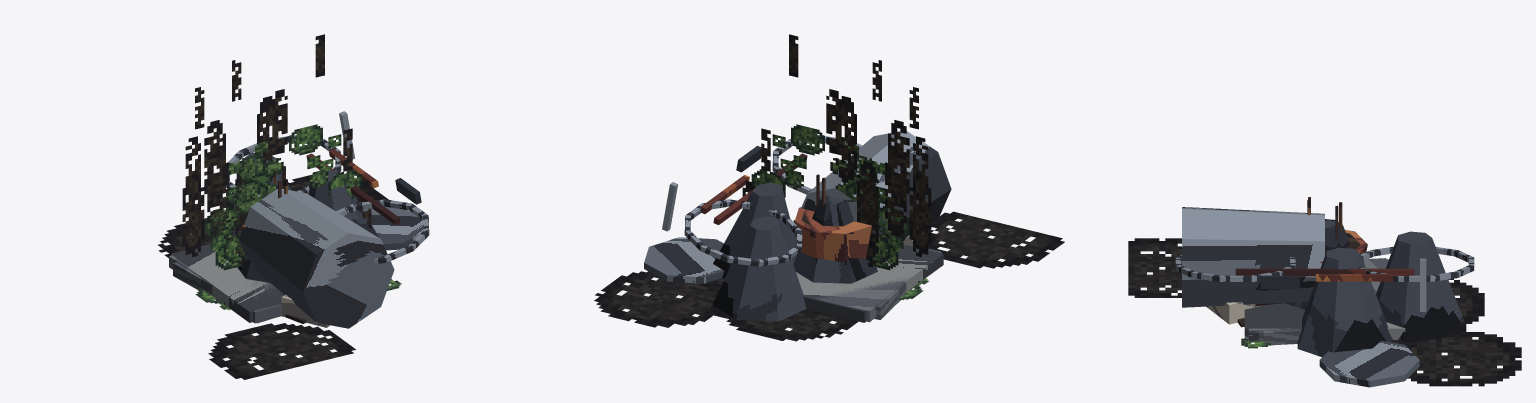
The model's file is VEIL_HouseKit.glb.
3 renders of one model, left to right at view 1: azimuth 30°, elevation 25°; view 2: azimuth 150°, elevation 25°; view 3: azimuth 270°, elevation 25°, orthographic.
Parts seen in each view (by area): view 1: TrashCan_Tipped, Grime_Streaks, Stain_Flat, Moss_Wall, Bike_Fallen, Slab_A, TrashBags, Slab_B, Slab_C; view 2: Stain_Flat, TrashBags, Grime_Streaks, TrashCan_Tipped, Moss_Wall, Bike_Fallen, Slab_A, Pot_Dead, Slab_B, Slab_C; view 3: TrashCan_Tipped, TrashBags, Stain_Flat, Bike_Fallen, Slab_A, Pot_Dead, Slab_B, Slab_C.
Boxes of the visible parts, x1=… form: TrashCan_Tipped: x1=239, y1=188, x2=423, y2=328; Grime_Streaks: x1=182, y1=34, x2=371, y2=267; Stain_Flat: x1=158, y1=174, x2=388, y2=379; Moss_Wall: x1=205, y1=124, x2=362, y2=270; Bike_Fallen: x1=226, y1=111, x2=429, y2=264; Slab_A: x1=170, y1=239, x2=284, y2=322; TrashBags: x1=223, y1=152, x2=379, y2=282; Slab_B: x1=169, y1=255, x2=281, y2=323; Slab_C: x1=173, y1=262, x2=267, y2=323; Stain_Flat: x1=594, y1=211, x2=1064, y2=341; TrashBags: x1=712, y1=182, x2=877, y2=321; Grime_Streaks: x1=742, y1=34, x2=931, y2=267; TrashCan_Tipped: x1=644, y1=131, x2=951, y2=283; Moss_Wall: x1=751, y1=124, x2=908, y2=270; Bike_Fallen: x1=662, y1=135, x2=862, y2=266; Slab_A: x1=796, y1=245, x2=943, y2=322; Pot_Dead: x1=794, y1=174, x2=871, y2=262; Slab_B: x1=813, y1=245, x2=941, y2=322; Slab_C: x1=874, y1=282, x2=912, y2=319; TrashCan_Tipped: x1=1182, y1=207, x2=1419, y2=387; TrashBags: x1=1285, y1=219, x2=1463, y2=356; Stain_Flat: x1=1128, y1=238, x2=1521, y2=386; Bike_Fallen: x1=1175, y1=246, x2=1474, y2=311; Slab_A: x1=1244, y1=303, x2=1405, y2=339; Pot_Dead: x1=1307, y1=197, x2=1367, y2=262; Slab_B: x1=1248, y1=259, x2=1388, y2=341; Slab_C: x1=1263, y1=258, x2=1386, y2=345.
Bounding box in the file's own units: 2.2 × 1.6 × 2.2.
Materials: 2 (2 with a texture image).
